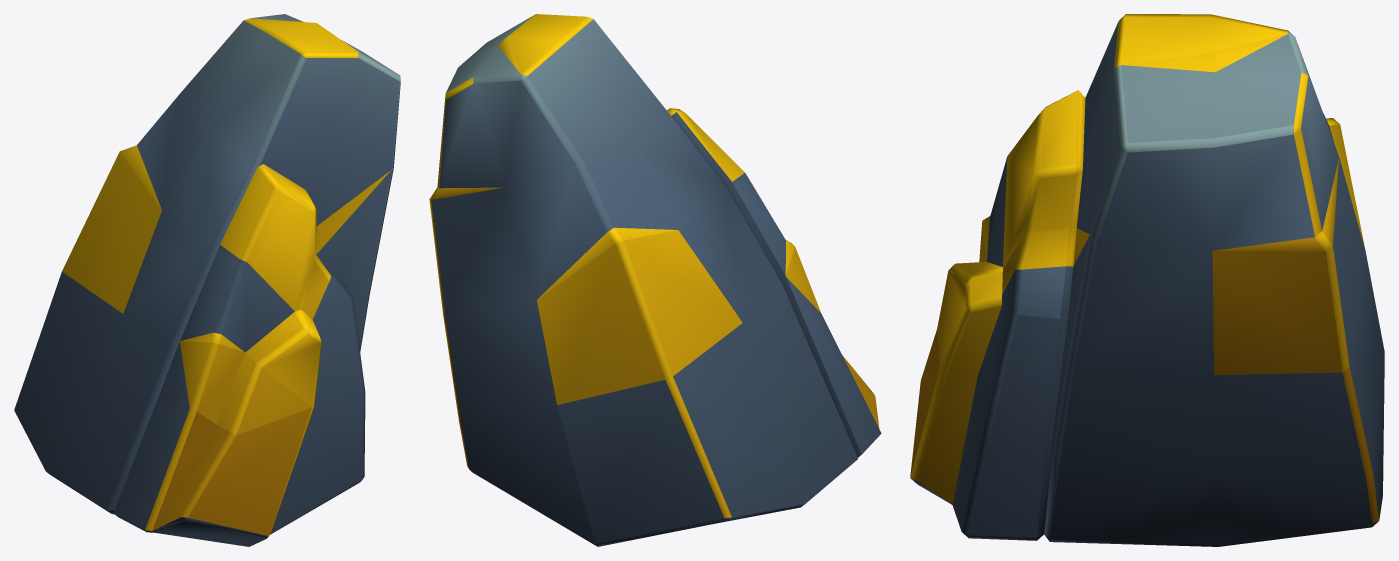
File: rock_gold.fbx
3 views of the same model, side by side, from view 1: azimuth 30°, elevation 25°; view 2: azimuth 150°, elevation 25°; view 3: azimuth 270°, elevation 25° (orthographic). The views are drawn at different scales.
Visible parts, largest first — view 1: rock_gold; view 2: rock_gold; view 3: rock_gold.
Part boxes in pixels (x1=…): rock_gold: x1=14, y1=14, x2=400, y2=546; rock_gold: x1=429, y1=14, x2=881, y2=546; rock_gold: x1=910, y1=14, x2=1384, y2=546.
Size of the model in its own units: 8.71 by 10.84 by 8.05.
